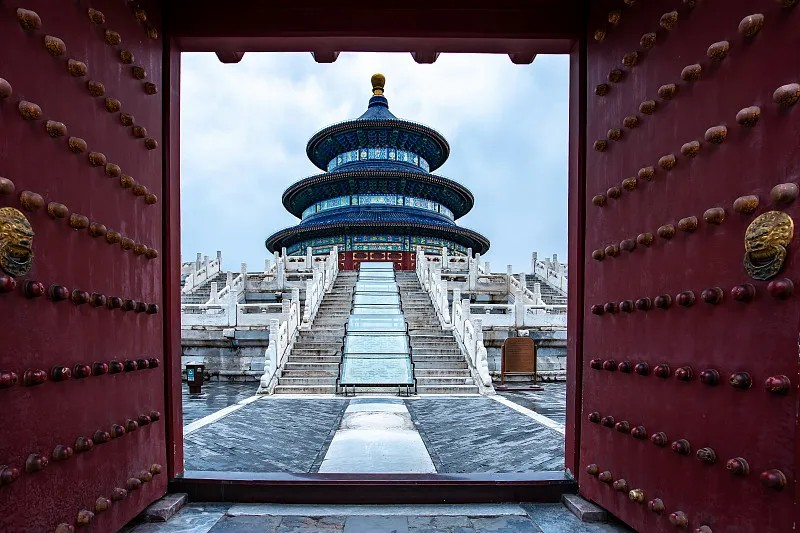Heaven: (265, 73, 490, 272)
